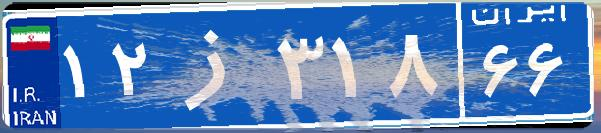1: (330, 28, 385, 110), (57, 26, 110, 107)
2: (110, 28, 158, 105)
3: (273, 28, 330, 110)
6: (475, 38, 525, 113), (525, 38, 570, 115)
8: (385, 28, 445, 110)
ز: (158, 15, 273, 115)
